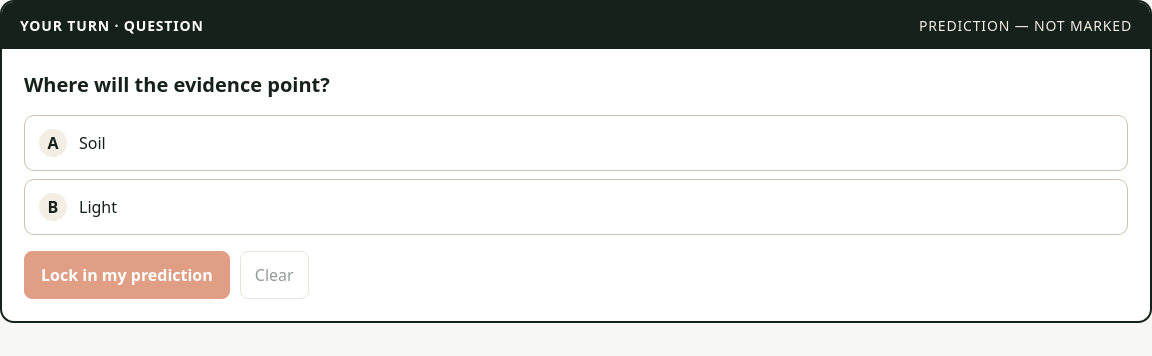
it: InteractionShell task roles › saves predictions without showing grading language
Expected: the text "Where will the evidence point?" is shown, [24,71,330,98]
Click the button "A Soil".
click(53, 143)  # box [24,115,1128,171]
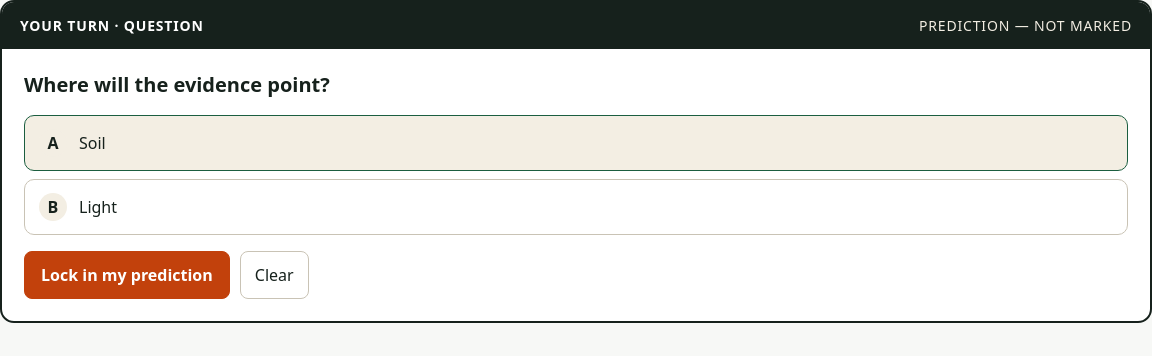
Now the button "A Soil" is pressed, box [24,115,1128,171]
Click the button with test id "interaction-check".
click(127, 275)  # box [24,251,230,299]
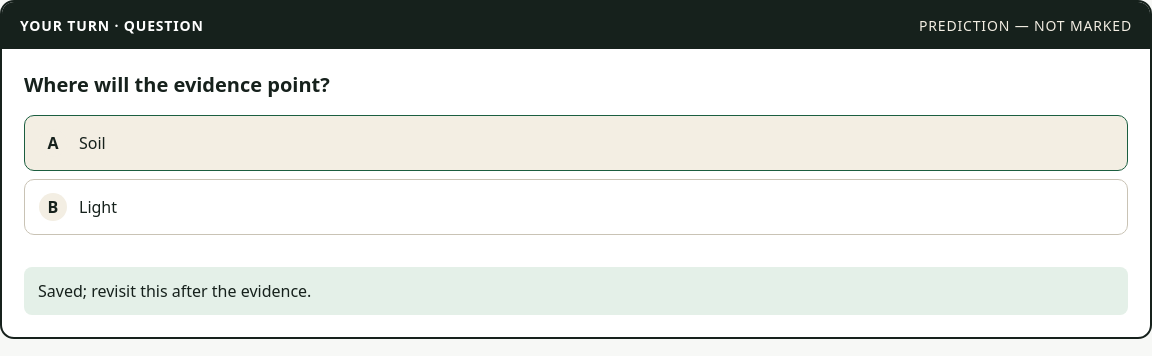
Now the message reads "Saved; revisit this after the evidence.", box [38,280,311,302]
